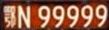N: (18, 6, 30, 28)
